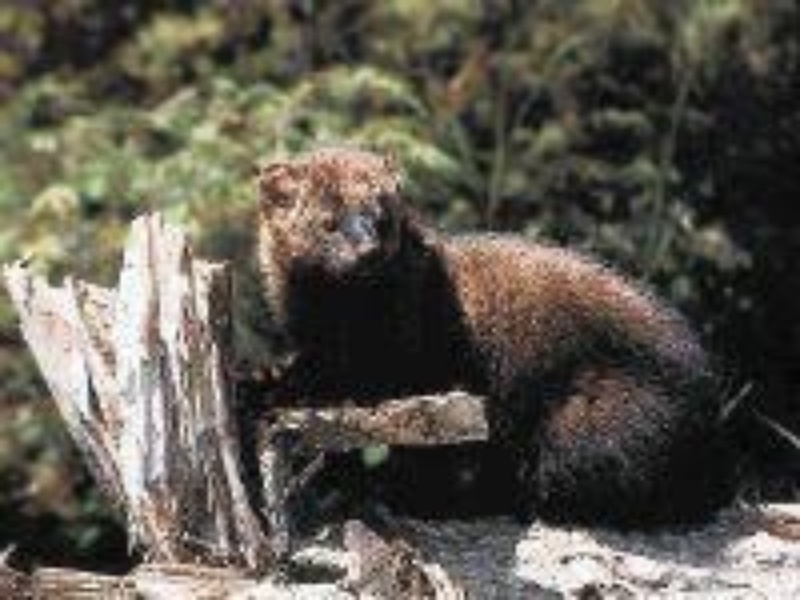minkish: (253, 148, 755, 532)
